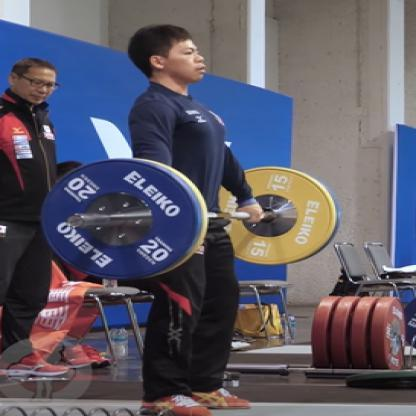barbell: (41, 157, 342, 282)
